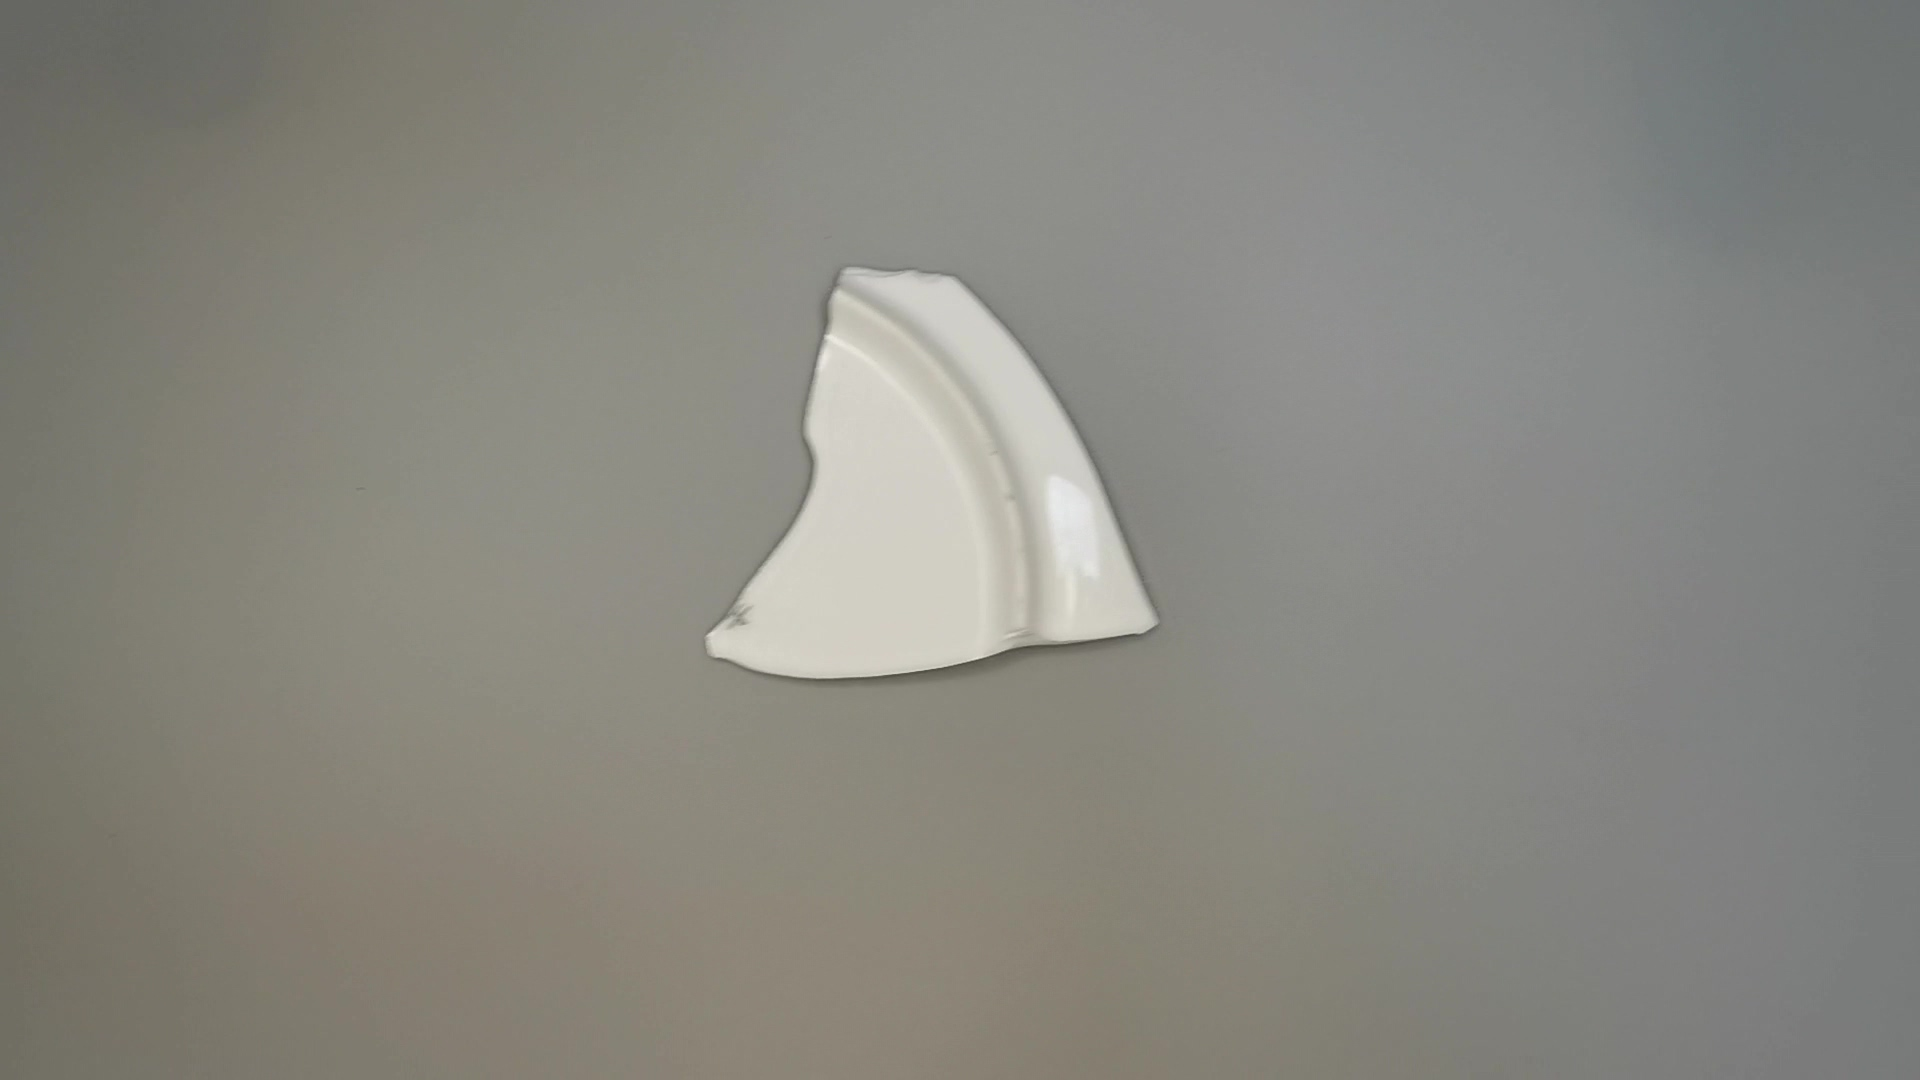ceramic: (695, 255, 1170, 686)
